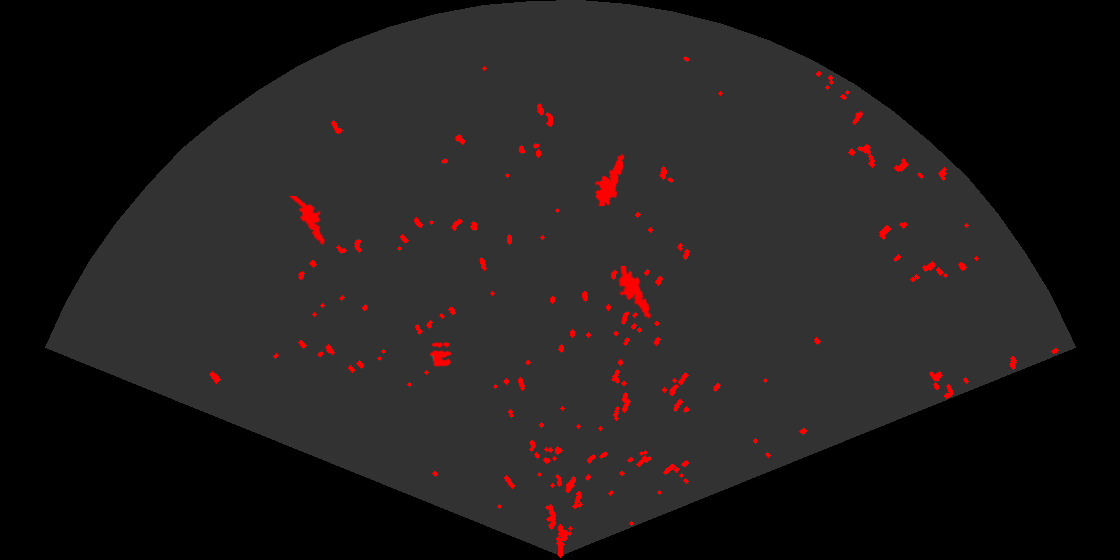ball: (428, 341, 454, 368)
frogman: (288, 196, 327, 247), (617, 266, 653, 321), (593, 152, 626, 206)
